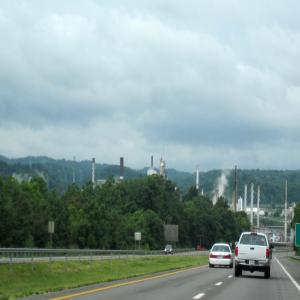Vehicle-registration-plate: (250, 262, 256, 266)
